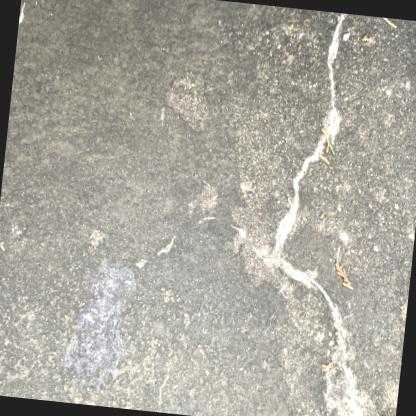crack: (251, 12, 365, 416)
